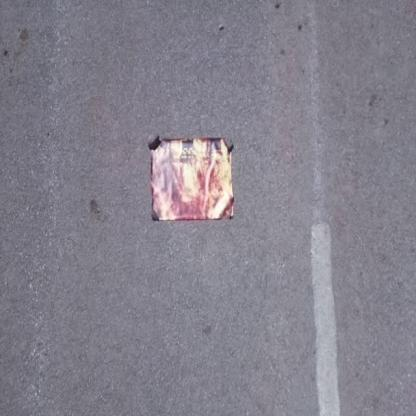fire-poster: (147, 134, 235, 223)
